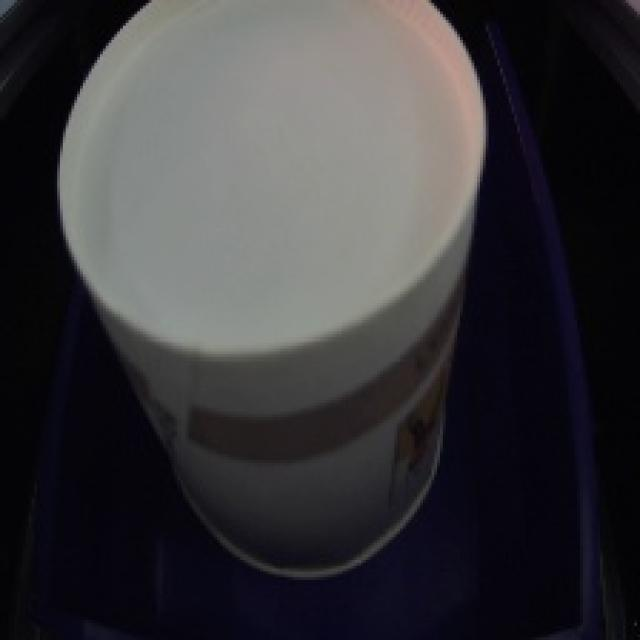cups: (46, 0, 497, 586)
